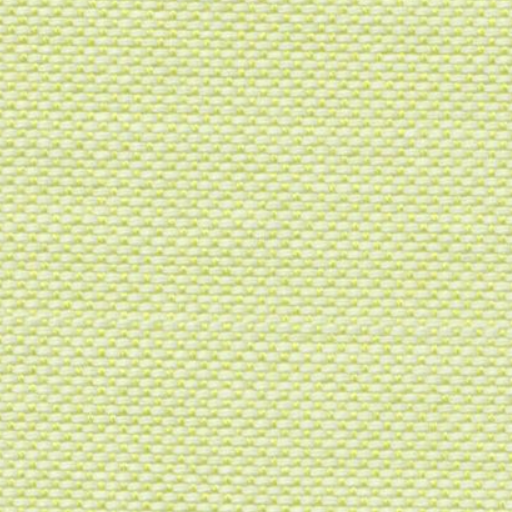TuoSha: (16, 278, 500, 367)
